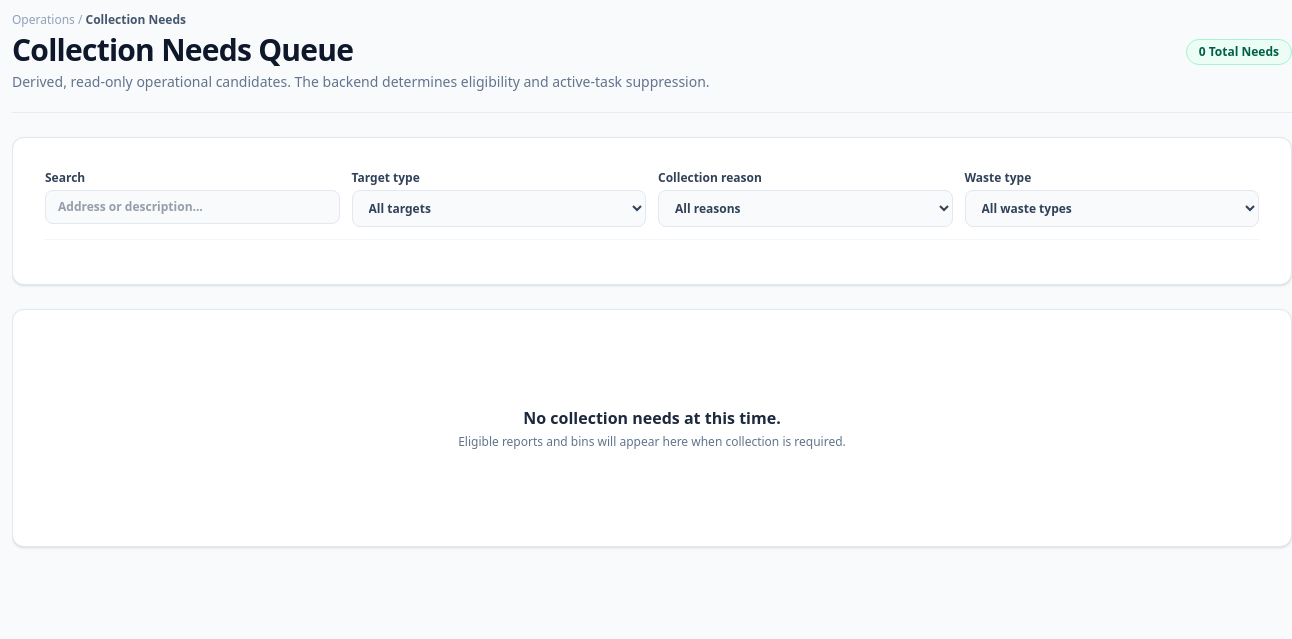
CollectionNeedsPage › shows a filtered empty state after applying a server-side filter
Expected: the text "No collection needs at this time." is shown, [523, 407, 781, 429]
Select "Waste bins" in the dropdown labelled "Target type": (499, 208) [352, 190, 646, 227]
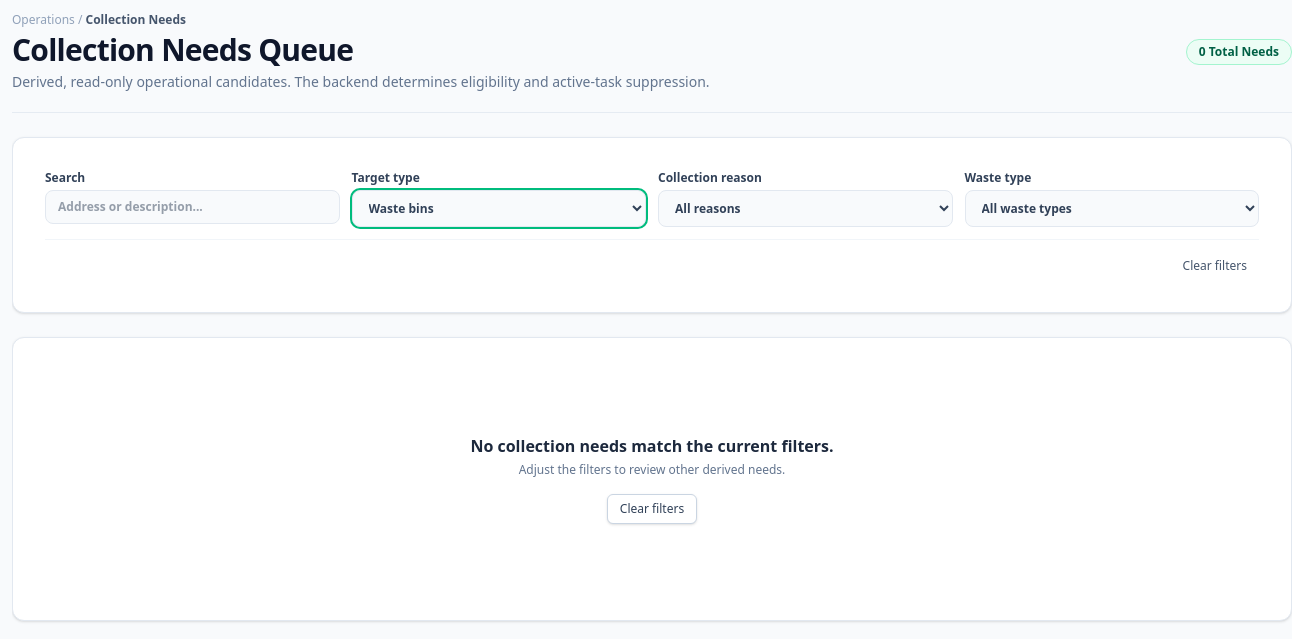
Expected: the text "No collection needs match the current filters." is shown, [470, 435, 834, 457]
